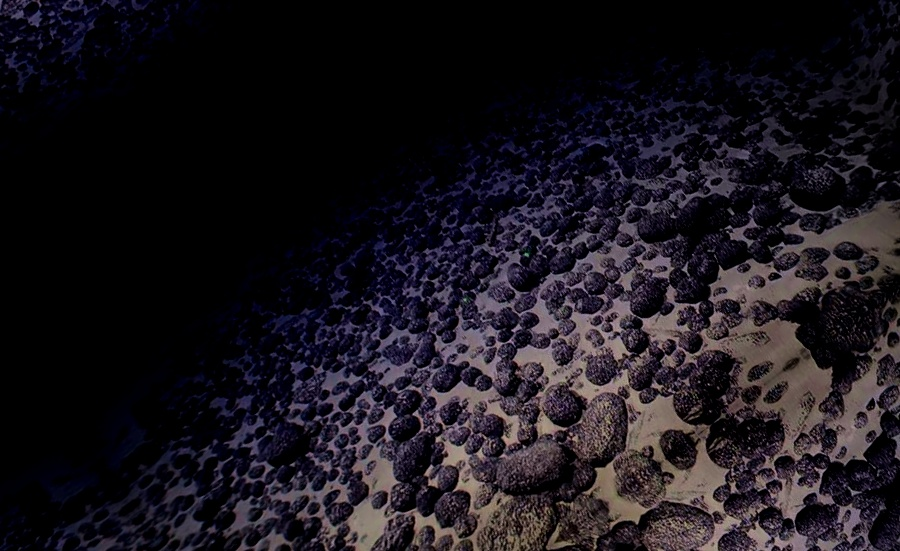halobolite: (484, 415, 590, 515), (419, 447, 488, 516), (643, 338, 718, 391), (718, 399, 779, 464), (160, 429, 234, 465), (648, 503, 710, 543), (249, 371, 309, 408), (474, 405, 516, 451), (418, 412, 455, 463), (609, 324, 650, 370), (116, 487, 169, 522), (254, 435, 298, 474), (558, 384, 599, 420), (606, 403, 641, 445), (202, 461, 239, 498), (468, 283, 502, 323), (271, 339, 313, 371), (282, 318, 326, 348), (338, 323, 373, 355), (506, 353, 542, 384), (514, 297, 548, 328), (529, 413, 558, 446), (663, 402, 695, 431), (388, 364, 415, 397), (338, 293, 371, 320), (347, 396, 377, 425), (127, 452, 159, 479), (569, 292, 595, 317), (352, 262, 378, 287), (541, 362, 570, 383), (448, 356, 472, 381)
